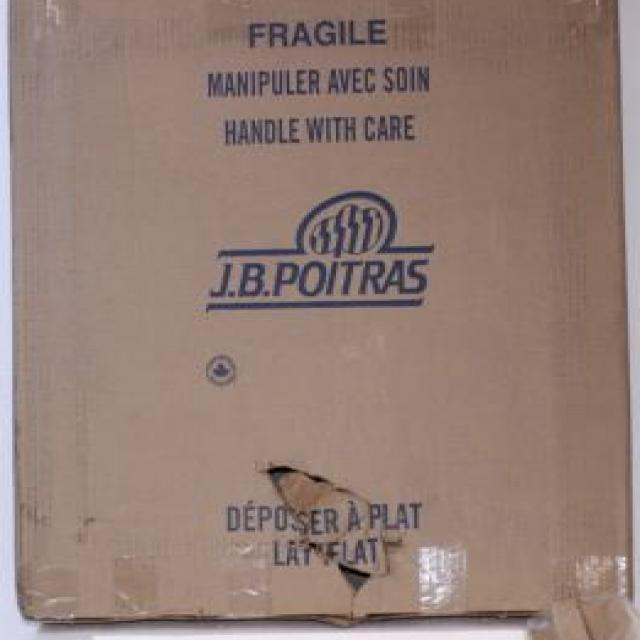hole: (253, 460, 407, 600)
